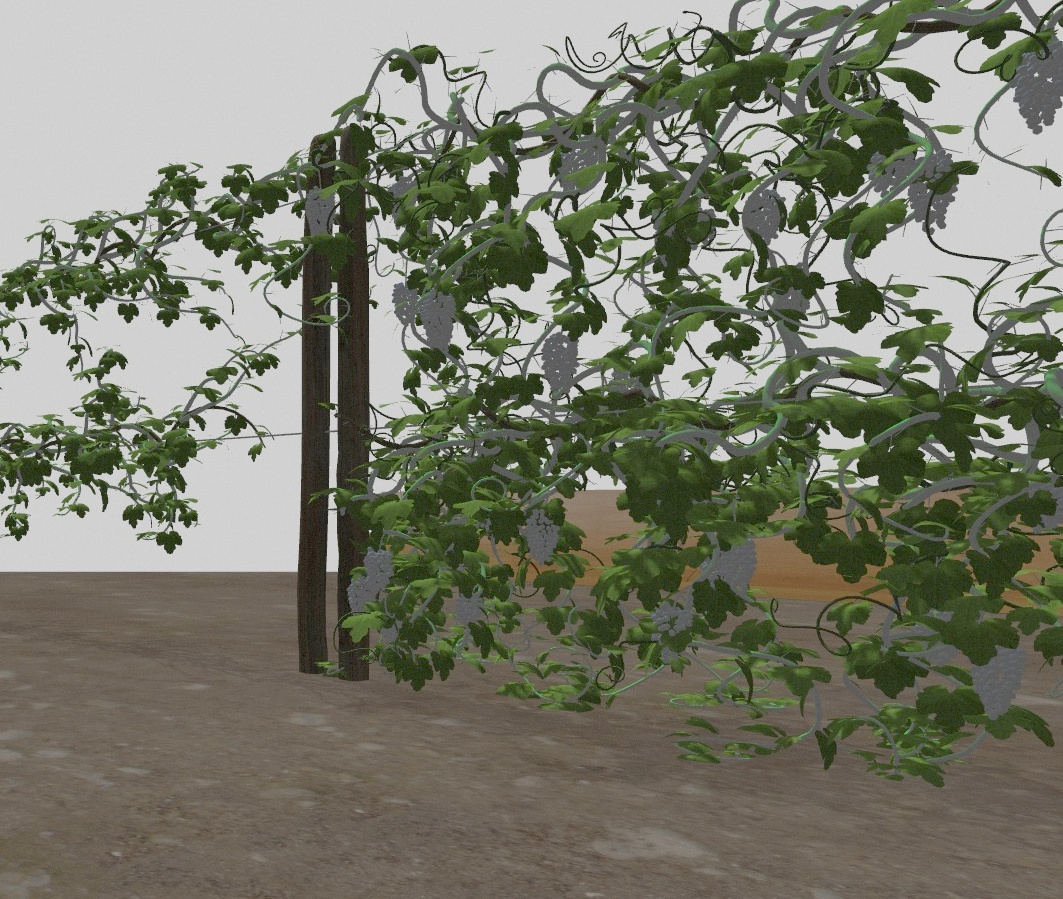grape: (972, 639, 1027, 720), (1012, 50, 1063, 136), (909, 152, 957, 234), (712, 533, 759, 593), (541, 330, 579, 396), (419, 290, 456, 354), (743, 189, 781, 247), (525, 508, 563, 565), (867, 150, 909, 198), (652, 594, 694, 636), (304, 187, 336, 237), (363, 546, 395, 590), (391, 281, 421, 326), (452, 590, 484, 626), (347, 576, 374, 615)
